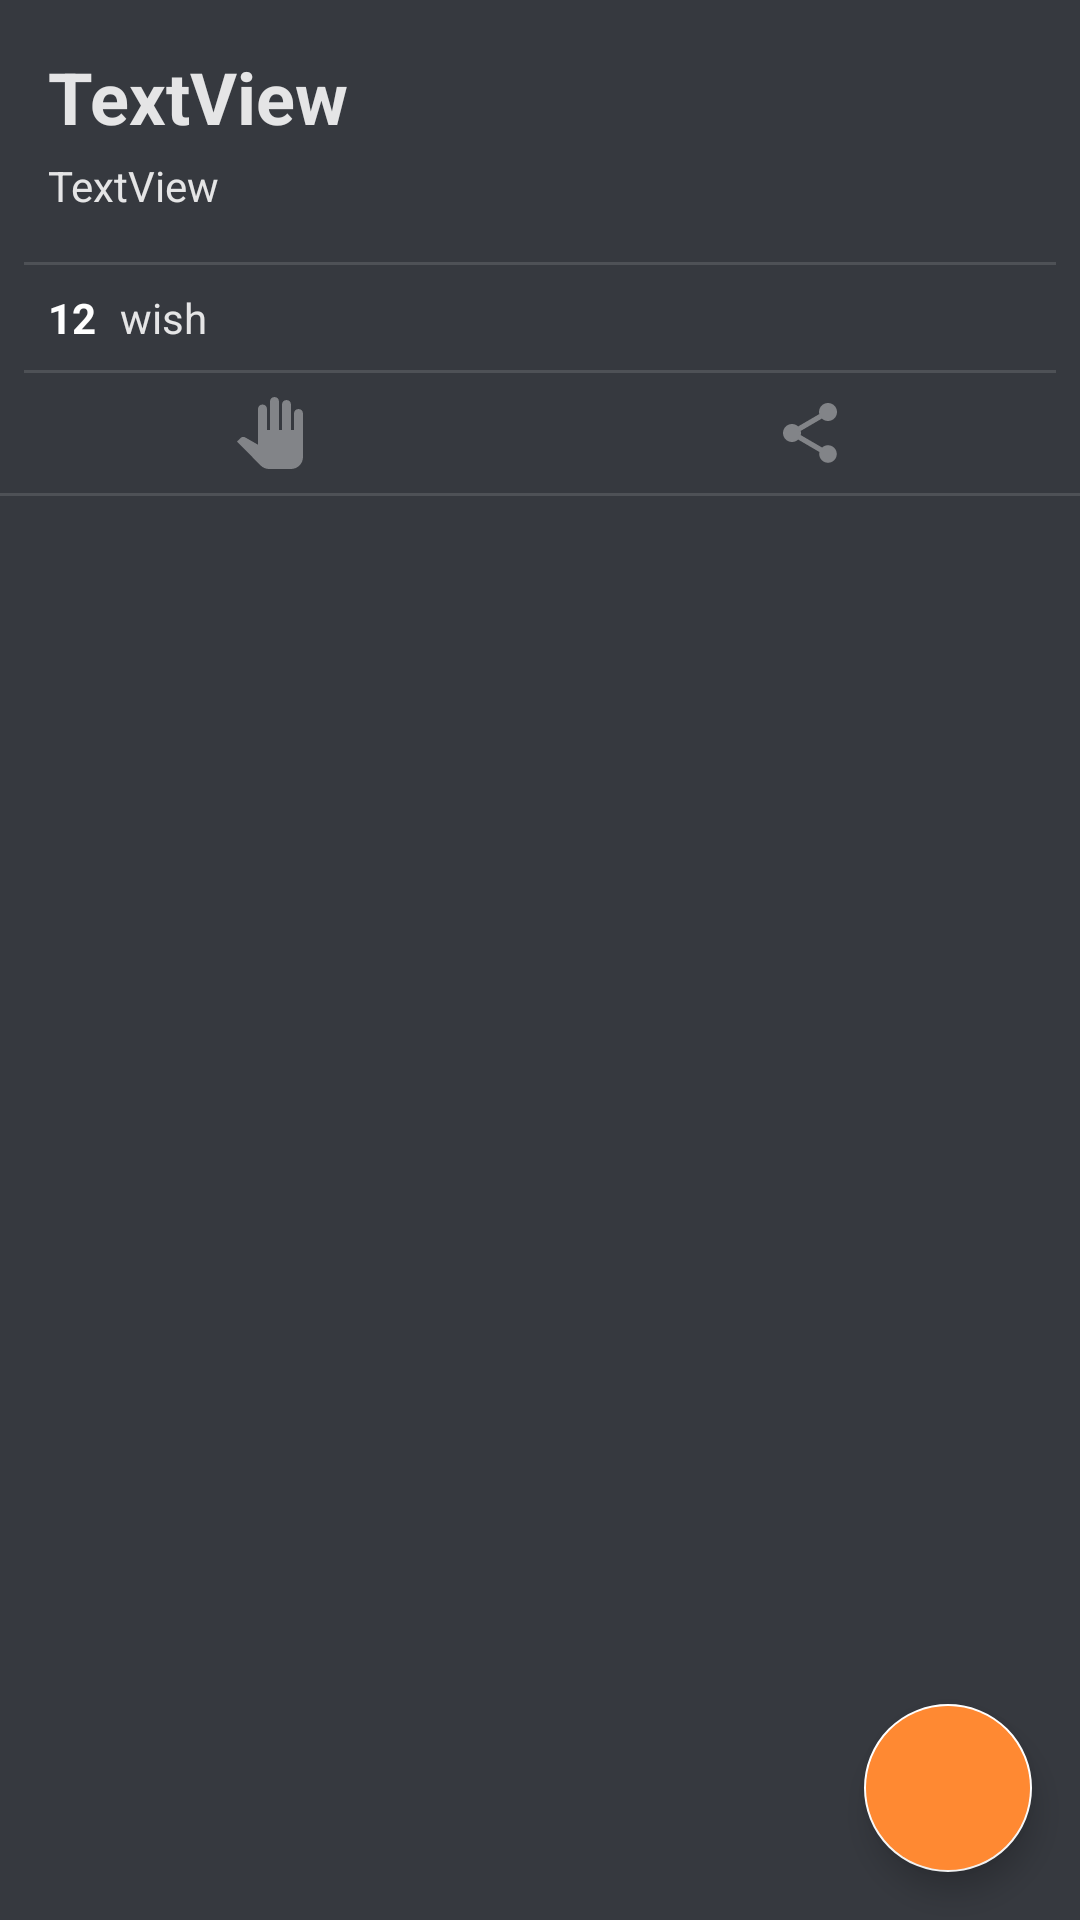

Where icons sit on this 1080×1920 app screen, as (x1, y1, x2, y2):
pan tool: (237, 397, 303, 469)
share: (783, 403, 837, 463)
